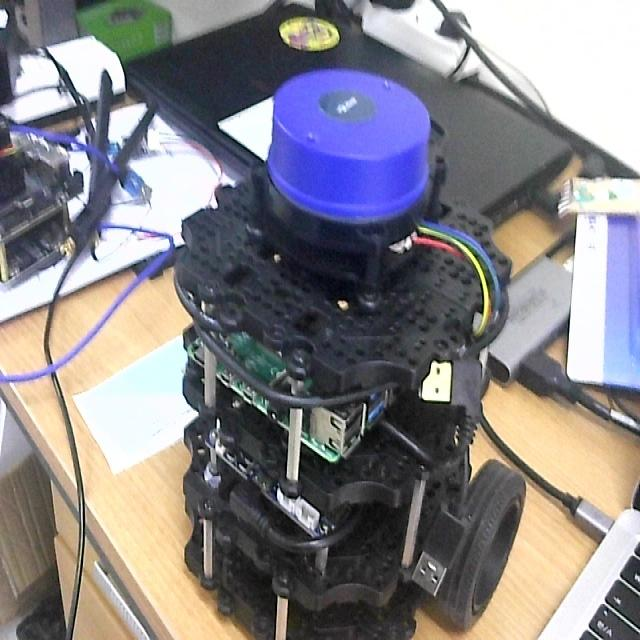turtle: (175, 68, 527, 640)
